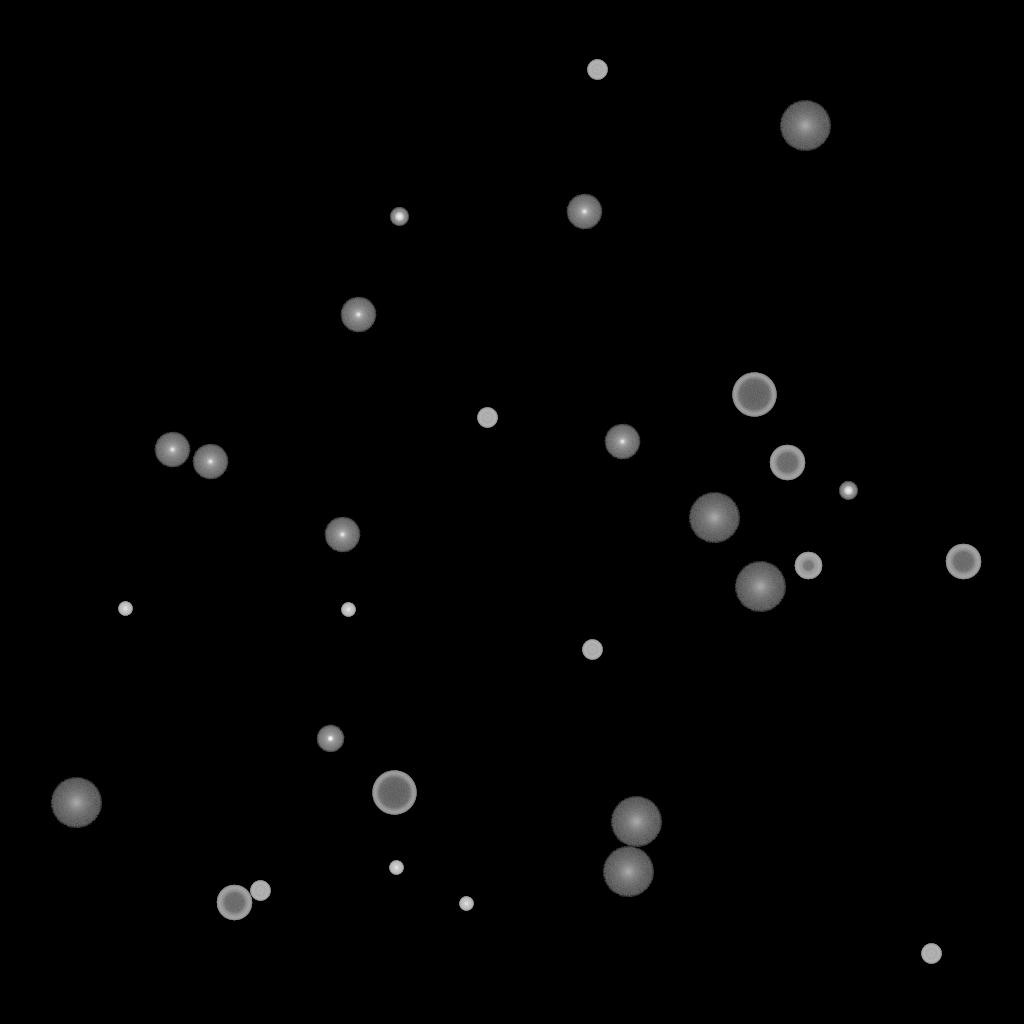depth:-10: (316, 725, 344, 753)
depth:-20: (390, 208, 408, 226), (839, 482, 857, 500)
depth:-30: (389, 861, 403, 875), (459, 897, 473, 911), (341, 603, 355, 617), (118, 602, 132, 616)
depth:-40: (587, 60, 607, 80), (250, 881, 270, 901), (477, 408, 497, 428), (582, 640, 602, 660), (921, 944, 941, 964)
depth:-50: (794, 552, 822, 580)
depth:-60: (769, 445, 805, 481), (216, 885, 252, 921), (945, 544, 981, 580)
depth:-70: (732, 373, 776, 417), (372, 771, 416, 815)
depth:0: (192, 444, 228, 480), (154, 432, 190, 468), (340, 297, 376, 333), (604, 424, 640, 460), (324, 517, 360, 553), (566, 194, 602, 230)
depth:20: (734, 562, 786, 612), (50, 778, 102, 828), (602, 847, 654, 897), (610, 797, 662, 847), (779, 101, 831, 151), (688, 493, 740, 543)
